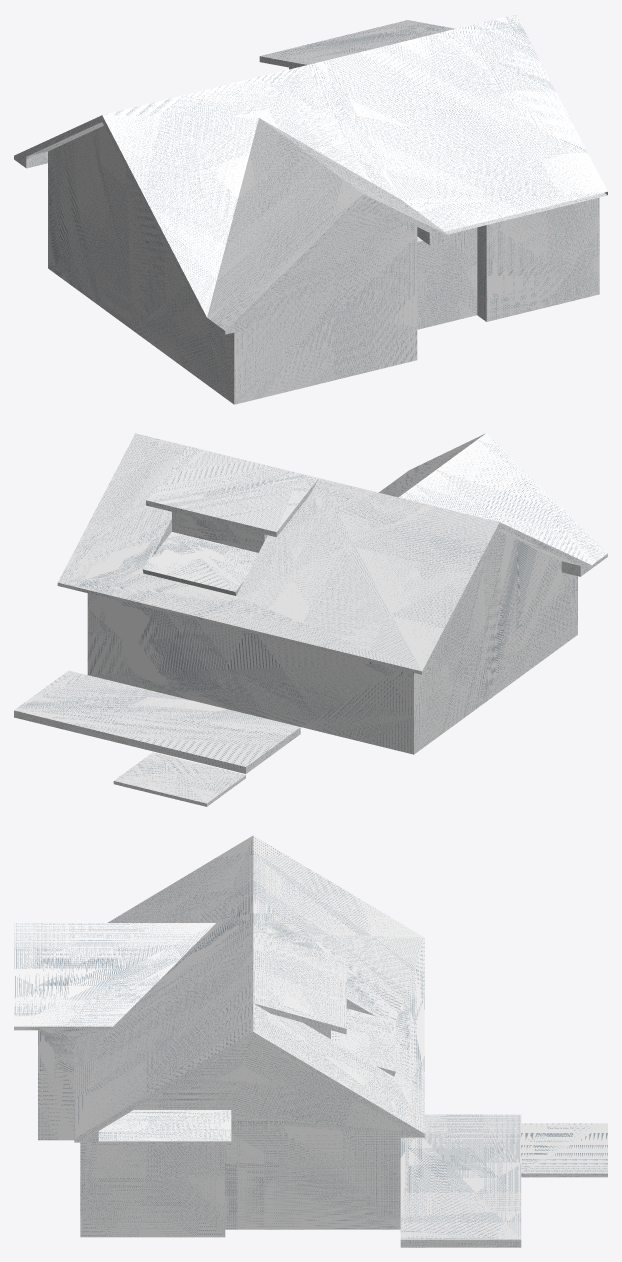
Rendered from ExistingHome_Exterior.dae.
3 renders of one model, top to bottom at view 1: azimuth 30°, elevation 25°; view 2: azimuth 150°, elevation 25°; view 3: azimuth 270°, elevation 25°, orthographic. The views are drawn at different scales.
Parts seen in each view (by area): view 1: SketchUp; view 2: SketchUp (×2); view 3: SketchUp (×2).
Part boxes in pixels (left/top/right/bottom): SketchUp: left=14, top=14, right=607, bottom=404; SketchUp (×2): left=14, top=433, right=607, bottom=806; SketchUp (×2): left=14, top=835, right=607, bottom=1247.
Size of the model in its own units: 462 by 590 by 242.
